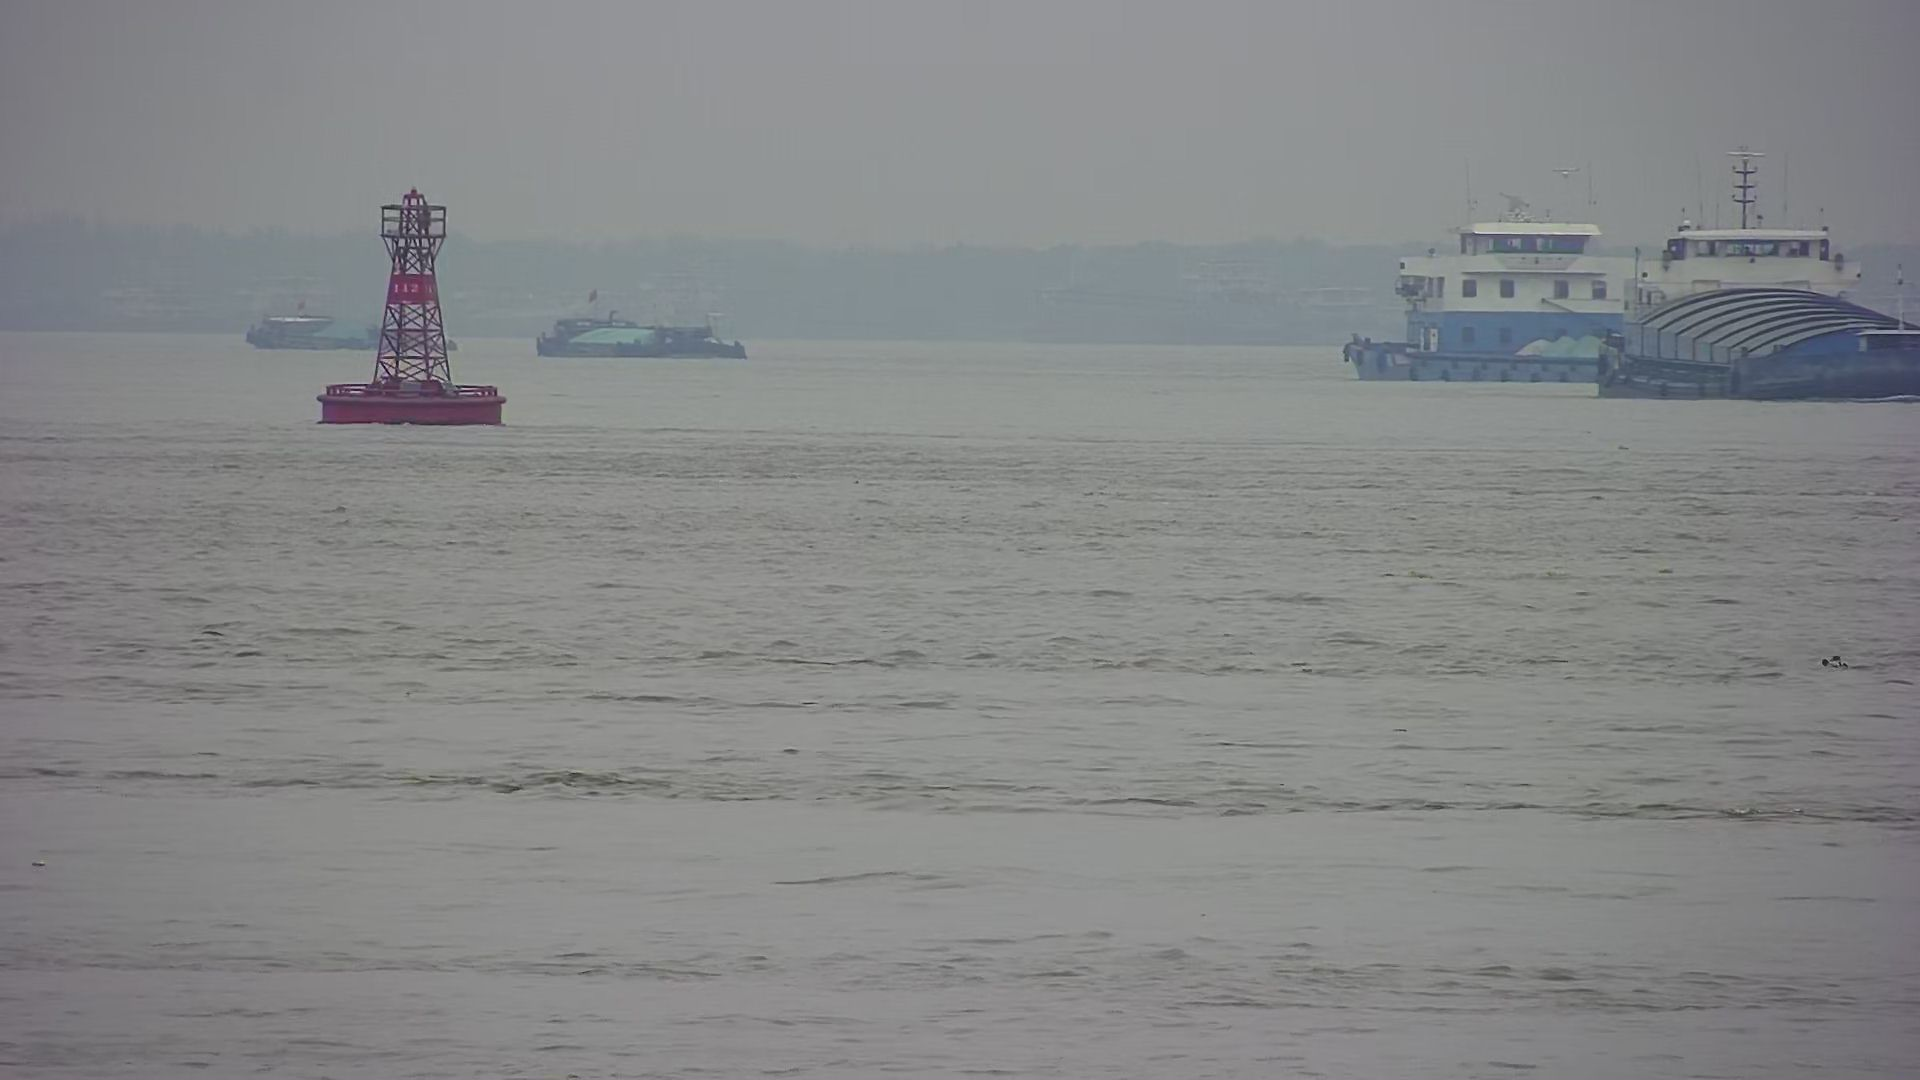platform: (311, 187, 514, 430)
ship: (1600, 167, 1917, 407), (1346, 206, 1627, 381), (232, 294, 463, 351), (530, 307, 753, 363)
